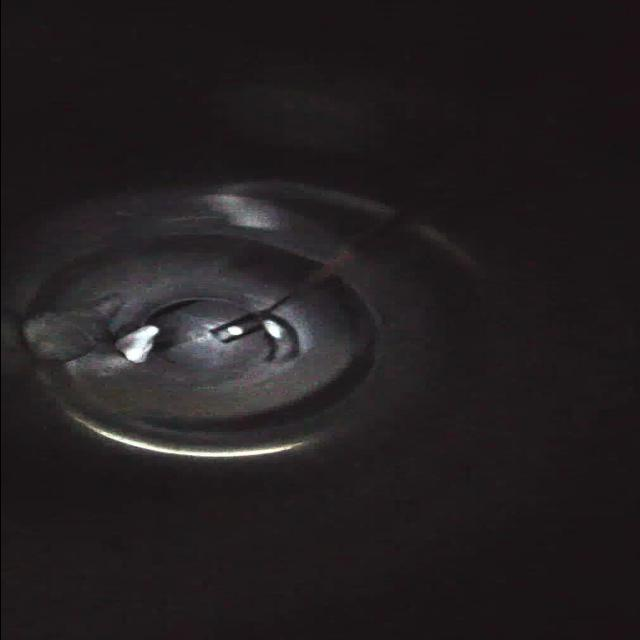impurity: (15, 308, 111, 364), (112, 324, 163, 366)
